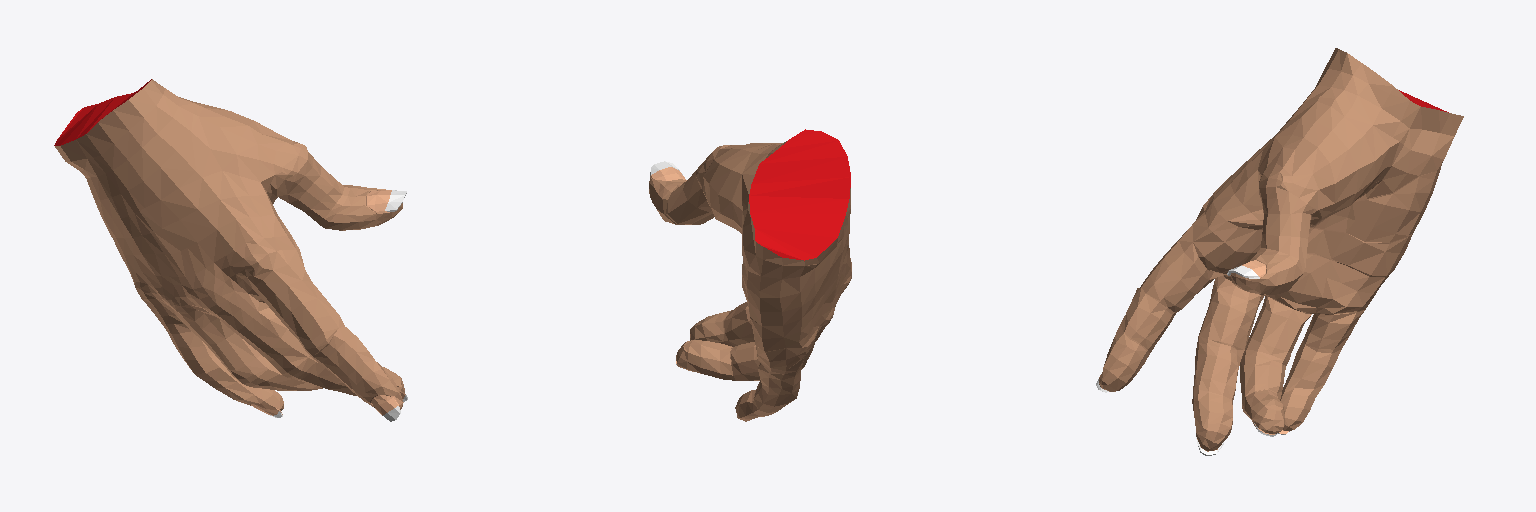
File: floppy.obj
3 renders of one model, left to right at view 1: azimuth 30°, elevation 25°; view 2: azimuth 150°, elevation 25°; view 3: azimuth 270°, elevation 25°, orthographic.
Parts seen in each view (by area): view 1: Mesh9 RightHan_3_1 Component1 Model, Mesh8 RightThu_4_1 Component1 Model, Mesh7 RightInd_7_1 Component1 Model, Mesh10 RightMi_10_1 Component1 Model, Mesh5 RightRi_13_1 Component1 Model, Mesh2 RightThu_6_1 Component1 Model, Mesh3 RightThu_5_1 Component1 Model, Mesh11 RightInd_9_1 Component1 Model, Mesh6 RightInd_8_1 Component1 Model, Mesh15 RightPi_16_1 Component1 Model, Mesh13 RightMi_11_1 Component1 Model, Mesh14 RightPi_17_1 Component1 Model (+2 smaller); view 2: Mesh9 RightHan_3_1 Component1 Model, Mesh8 RightThu_4_1 Component1 Model, Mesh3 RightThu_5_1 Component1 Model, Mesh1 RightRi_15_1 Component1 Model, Mesh15 RightPi_16_1 Component1 Model, Mesh2 RightThu_6_1 Component1 Model, Mesh4 RightRi_14_1 Component1 Model, Mesh13 RightMi_11_1 Component1 Model, Mesh12 RightMi_12_1 Component1 Model; view 3: Mesh9 RightHan_3_1 Component1 Model, Mesh8 RightThu_4_1 Component1 Model, Mesh7 RightInd_7_1 Component1 Model, Mesh3 RightThu_5_1 Component1 Model, Mesh10 RightMi_10_1 Component1 Model, Mesh5 RightRi_13_1 Component1 Model, Mesh13 RightMi_11_1 Component1 Model, Mesh2 RightThu_6_1 Component1 Model, Mesh12 RightMi_12_1 Component1 Model, Mesh6 RightInd_8_1 Component1 Model, Mesh11 RightInd_9_1 Component1 Model, Mesh15 RightPi_16_1 Component1 Model (+4 smaller).
Boxes of the visible parts, <box> form: Mesh9 RightHan_3_1 Component1 Model: <box>54,79,304,332</box>; Mesh8 RightThu_4_1 Component1 Model: <box>199,105,310,211</box>; Mesh7 RightInd_7_1 Component1 Model: <box>240,251,344,356</box>; Mesh10 RightMi_10_1 Component1 Model: <box>204,296,309,373</box>; Mesh5 RightRi_13_1 Component1 Model: <box>163,299,270,383</box>; Mesh2 RightThu_6_1 Component1 Model: <box>326,185,406,230</box>; Mesh3 RightThu_5_1 Component1 Model: <box>298,152,349,228</box>; Mesh11 RightInd_9_1 Component1 Model: <box>344,360,403,421</box>; Mesh6 RightInd_8_1 Component1 Model: <box>312,327,374,382</box>; Mesh15 RightPi_16_1 Component1 Model: <box>143,299,219,373</box>; Mesh13 RightMi_11_1 Component1 Model: <box>282,356,348,392</box>; Mesh14 RightPi_17_1 Component1 Model: <box>195,355,259,399</box>; Mesh9 RightHan_3_1 Component1 Model: <box>718,129,851,374</box>; Mesh8 RightThu_4_1 Component1 Model: <box>696,143,779,225</box>; Mesh3 RightThu_5_1 Component1 Model: <box>662,171,714,224</box>; Mesh1 RightRi_15_1 Component1 Model: <box>676,340,732,378</box>; Mesh15 RightPi_16_1 Component1 Model: <box>758,350,809,406</box>; Mesh2 RightThu_6_1 Component1 Model: <box>649,161,686,223</box>; Mesh4 RightRi_14_1 Component1 Model: <box>721,342,759,380</box>; Mesh13 RightMi_11_1 Component1 Model: <box>723,302,754,344</box>; Mesh12 RightMi_12_1 Component1 Model: <box>690,310,737,346</box>; Mesh9 RightHan_3_1 Component1 Model: <box>1192,48,1463,323</box>; Mesh8 RightThu_4_1 Component1 Model: <box>1258,102,1374,225</box>; Mesh7 RightInd_7_1 Component1 Model: <box>1140,207,1213,317</box>; Mesh3 RightThu_5_1 Component1 Model: <box>1257,185,1311,272</box>; Mesh10 RightMi_10_1 Component1 Model: <box>1199,282,1260,349</box>; Mesh5 RightRi_13_1 Component1 Model: <box>1245,301,1304,365</box>; Mesh13 RightMi_11_1 Component1 Model: <box>1193,336,1244,403</box>; Mesh2 RightThu_6_1 Component1 Model: <box>1227,252,1302,294</box>; Mesh12 RightMi_12_1 Component1 Model: <box>1192,388,1232,455</box>; Mesh6 RightInd_8_1 Component1 Model: <box>1120,288,1172,352</box>; Mesh11 RightInd_9_1 Component1 Model: <box>1096,325,1149,392</box>; Mesh15 RightPi_16_1 Component1 Model: <box>1303,310,1364,367</box>.
Bounding box in the file's own units: 90.02 × 109 × 108.